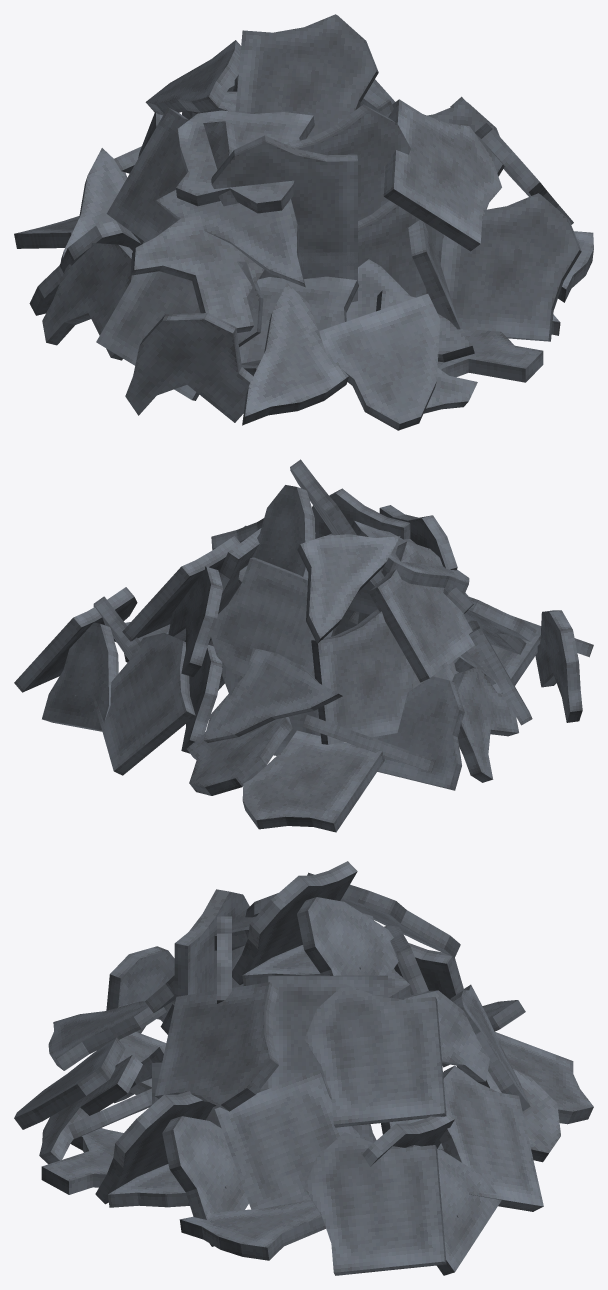
Rendered from rubble_pile_1_merged.gltf.
The picture shows the model from 3 angles, top to bottom: view 1: azimuth 30°, elevation 25°; view 2: azimuth 150°, elevation 25°; view 3: azimuth 270°, elevation 25°; orthographic projection. The views are drawn at different scales.
Parts seen in each view (by area): view 1: cuboid; view 2: cuboid; view 3: cuboid.
Boxes of the visible parts, x1,y1,x2,y2 form: cuboid: [14, 14, 593, 430]; cuboid: [14, 459, 593, 832]; cuboid: [14, 861, 593, 1275].
Size of the model in its own units: 4.97 by 2.74 by 4.85.
5 materials, 5 textured.
